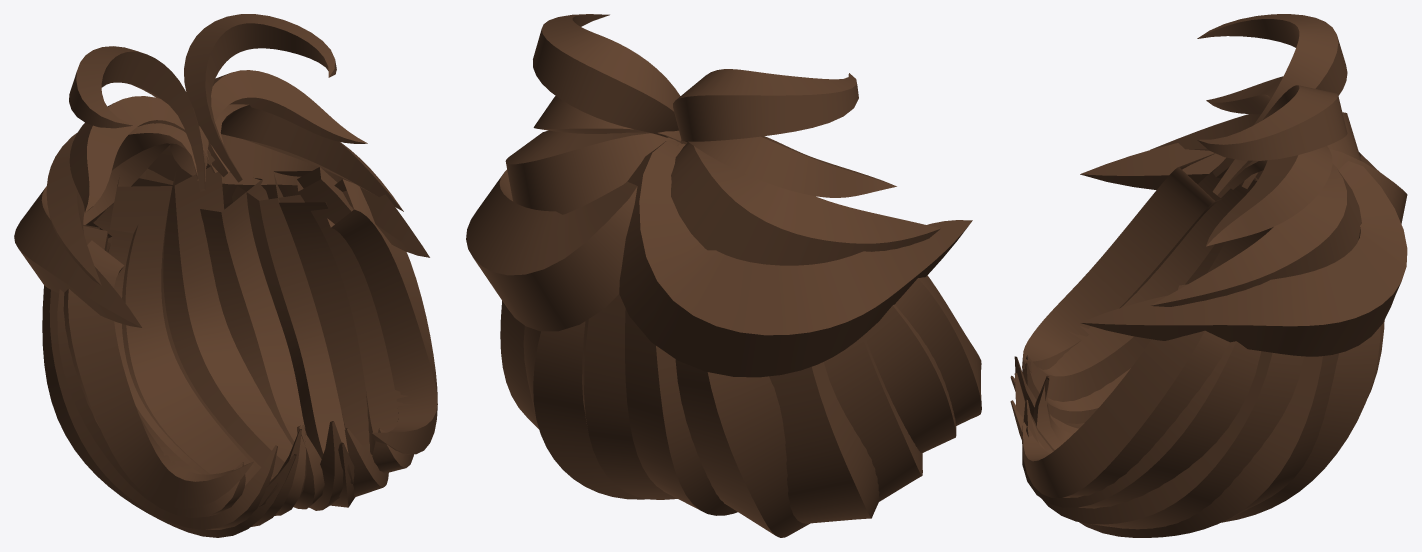
File: Body_003.fbx
The picture shows the model from 3 angles, left to right: view 1: azimuth 30°, elevation 25°; view 2: azimuth 150°, elevation 25°; view 3: azimuth 270°, elevation 25°; orthographic projection. The views are drawn at different scales.
Parts seen in each view (by area): view 1: Body.003; view 2: Body.003; view 3: Body.003.
Boxes of the visible parts, bbox=[...] form: Body.003: bbox=[14, 14, 437, 537]; Body.003: bbox=[466, 14, 981, 537]; Body.003: bbox=[1010, 14, 1407, 537].
Size of the model in its own units: 102 by 119 by 97.33.
